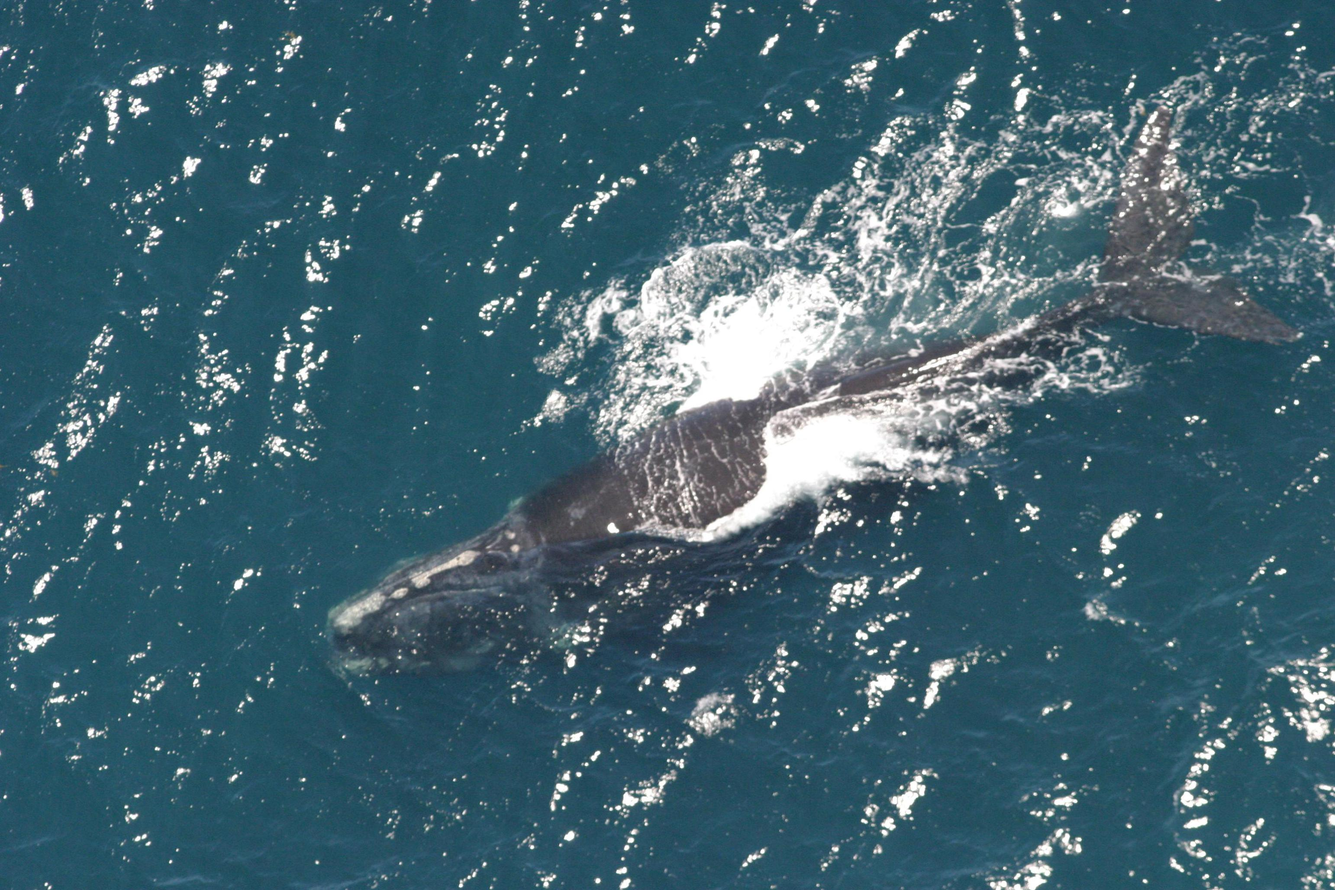whale: (316, 83, 1312, 697)
